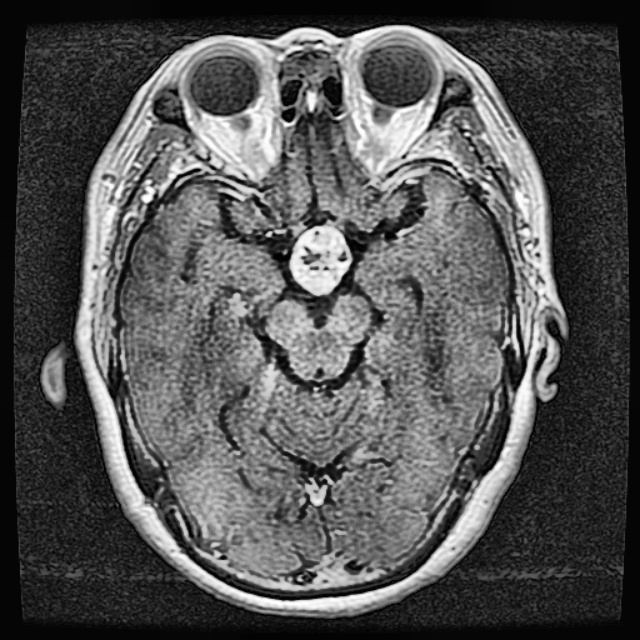Pituitary: (289, 225, 353, 295)
